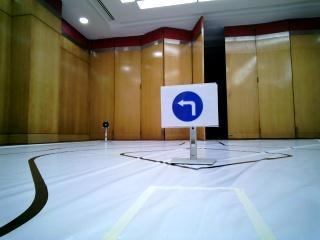left: (163, 88, 212, 127)
